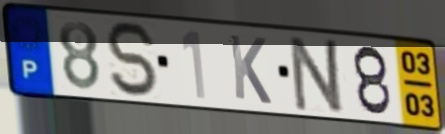1: (179, 29, 208, 101)
8: (54, 16, 103, 94), (350, 43, 393, 116)
K: (226, 31, 274, 107)
N: (288, 34, 348, 117)
S: (102, 19, 163, 100)
